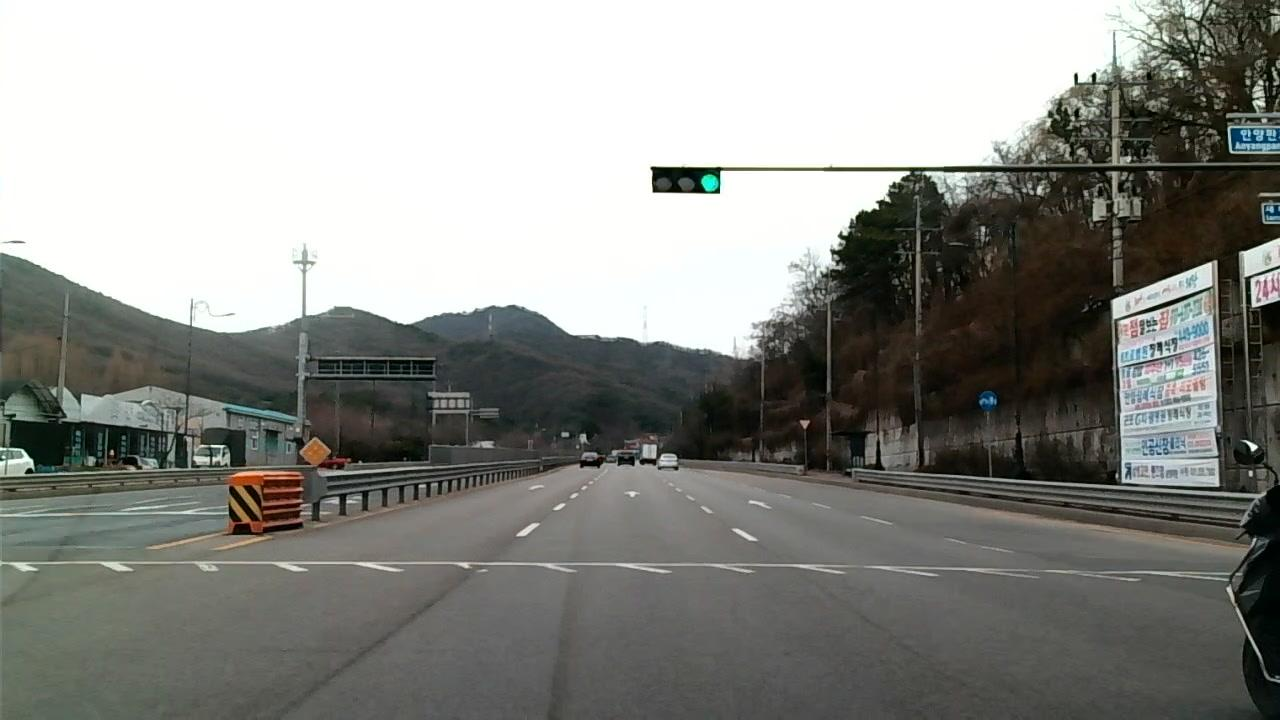banner: (1103, 261, 1215, 317), (1107, 288, 1212, 341), (1116, 343, 1216, 391), (1115, 321, 1215, 364), (1114, 369, 1218, 410), (1114, 398, 1219, 431), (1117, 458, 1221, 491), (1119, 430, 1221, 461)
